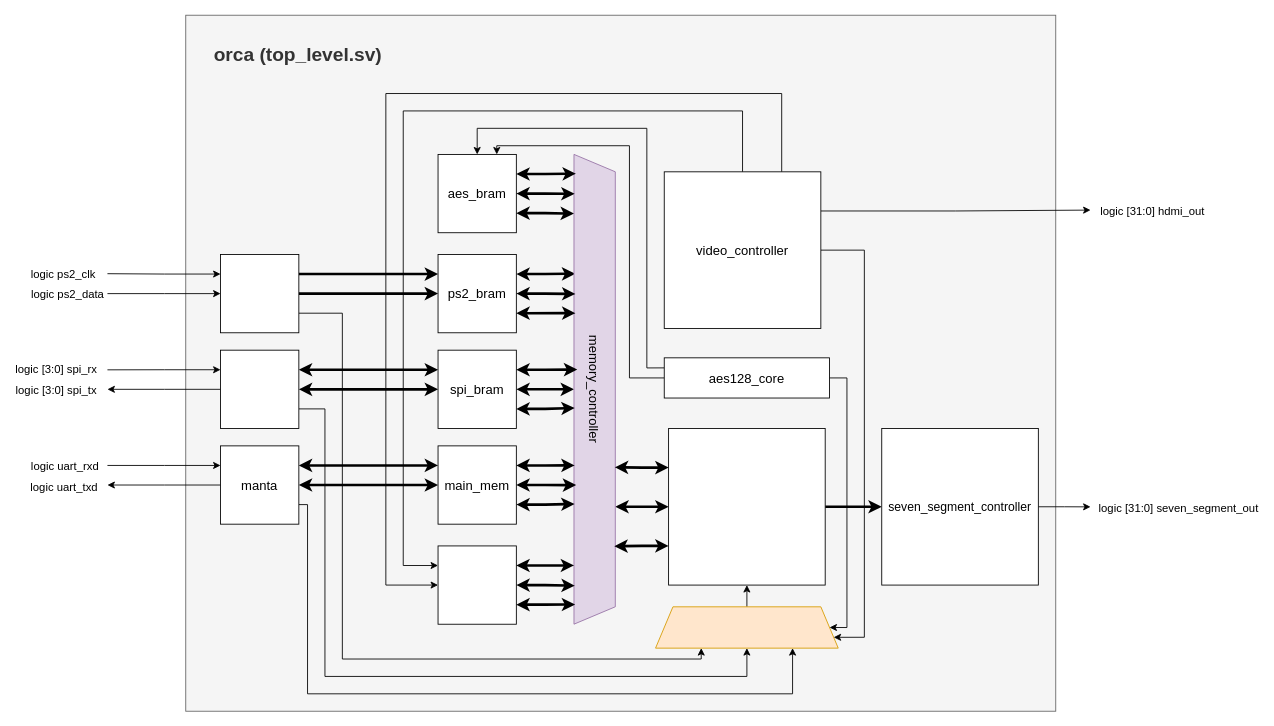
The diagram is 1274 pixels wide and 726 high, and some of its shapes have lost their labels. The centre of each missing label's shape, as x and y in pixels:
interrupt_controller: the point at 746,627
ps2_rx: the point at 259,293
riscv_core: the point at 746,506
spi_tx_rx: the point at 259,388
video_bram: the point at 476,584
